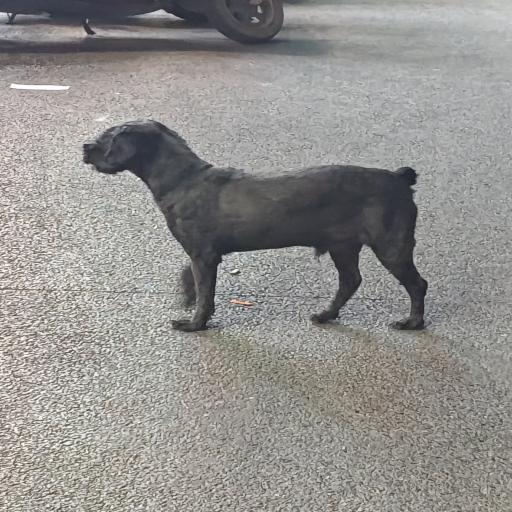dog: (70, 62, 156, 205)
